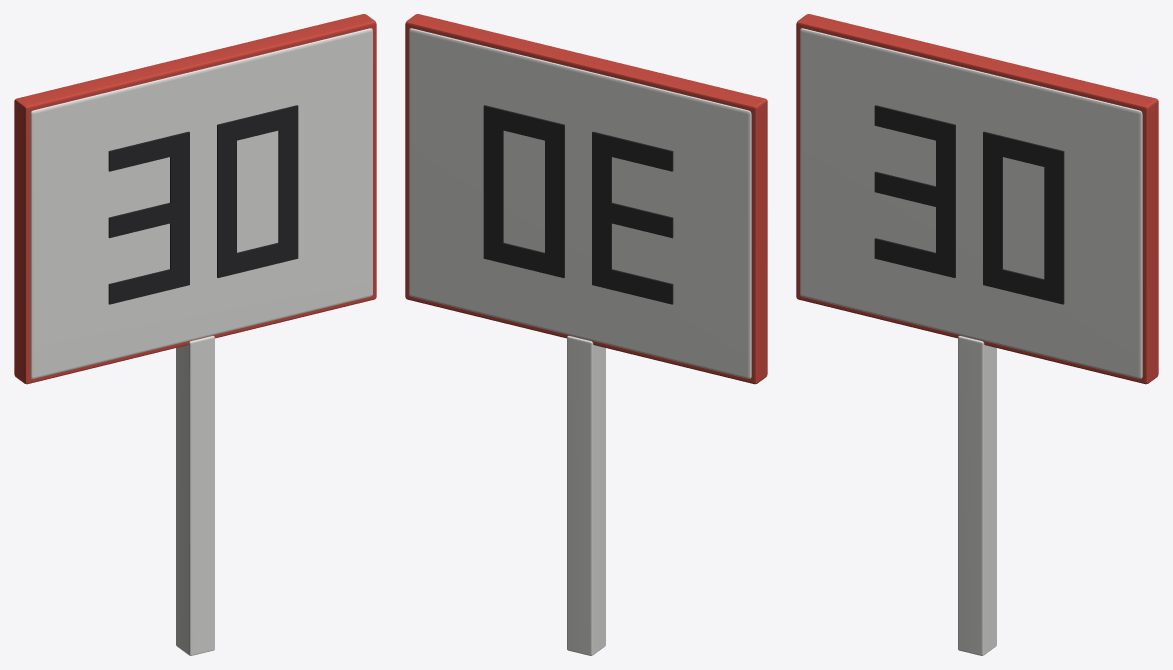
Rendered from yard_board_30.glb.
The picture shows the model from 3 angles, left to right: view 1: azimuth 30°, elevation 25°; view 2: azimuth 150°, elevation 25°; view 3: azimuth 330°, elevation 25°; orthographic projection.
Visible parts, largest first — view 1: SM_yard_board_30; view 2: SM_yard_board_30; view 3: SM_yard_board_30.
Part boxes in pixels (box(x1,y1,x2,y2)): SM_yard_board_30: box(14, 14, 376, 655); SM_yard_board_30: box(405, 14, 767, 655); SM_yard_board_30: box(796, 14, 1158, 655).
Bounding box in the file's own units: 0.82 × 1.31 × 0.068.
